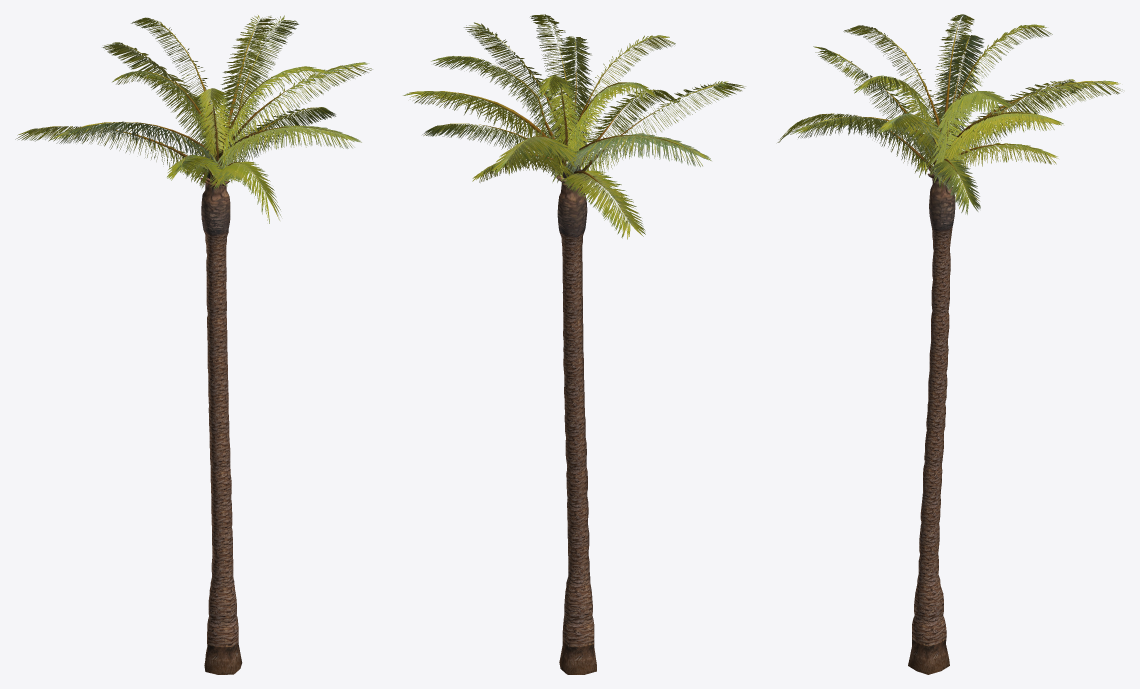
File: palm-tree-498.glb
The picture shows the model from 3 angles, left to right: view 1: azimuth 30°, elevation 25°; view 2: azimuth 150°, elevation 25°; view 3: azimuth 270°, elevation 25°; orthographic projection.
Parts seen in each view (by area): view 1: palm; view 2: palm; view 3: palm.
Part boxes in pixels (<box>): palm: <box>15,15,372,674</box>; palm: <box>403,14,745,674</box>; palm: <box>777,14,1122,674</box>.
Size of the model in its own units: 5.74 by 12 by 6.04.
Materials: 1 (1 with a texture image).
